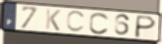6: (114, 13, 131, 37)
7: (20, 5, 40, 30)
C: (88, 12, 111, 36), (65, 10, 87, 34)
K: (44, 8, 62, 33)
P: (133, 14, 158, 39)
